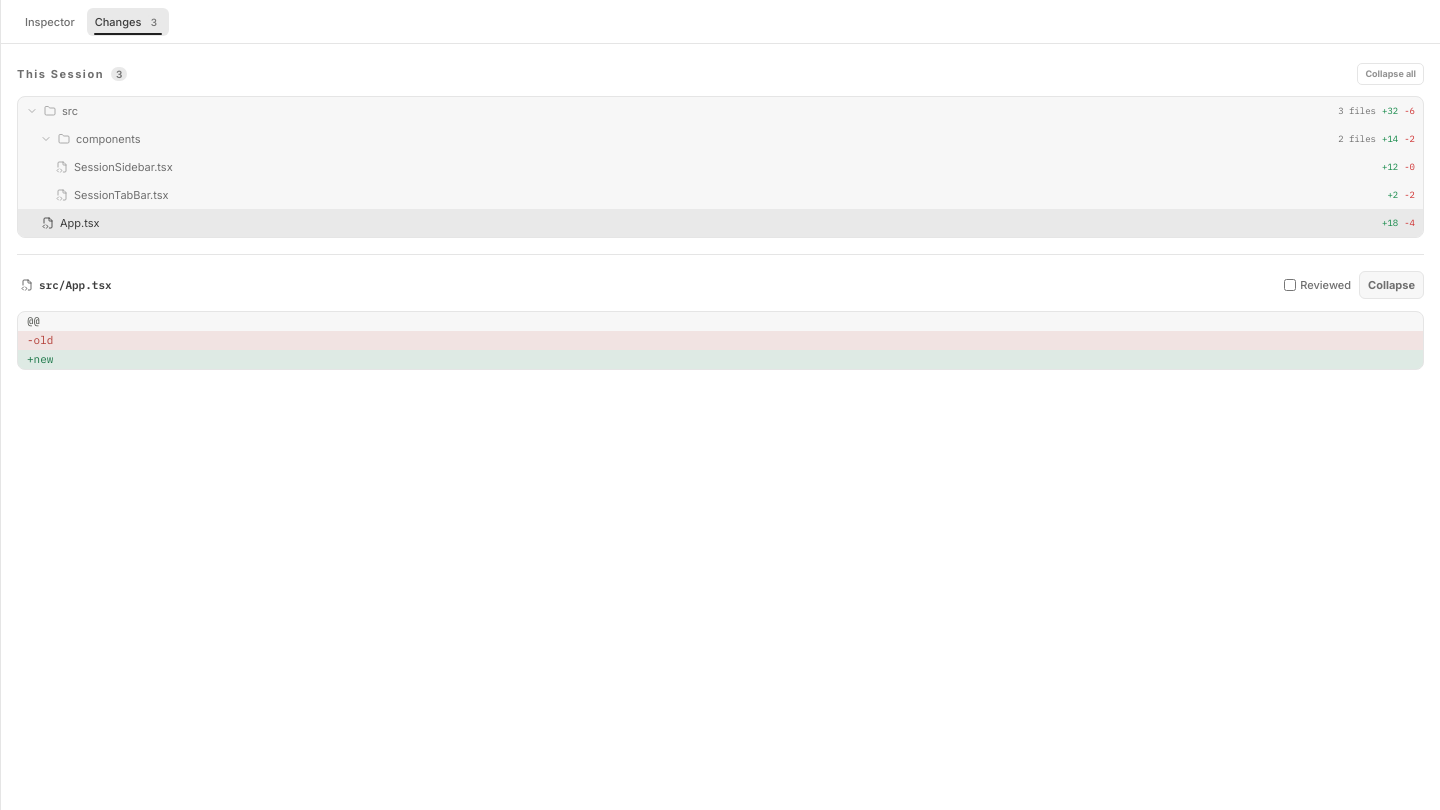
ChangeInspector › marks a file reviewed and lets the reviewer reopen its collapsed diff
Click the checkbox named "Mark src/App.tsx as reviewed": (1290, 285) top-left (1284, 279), bottom-right (1296, 291)
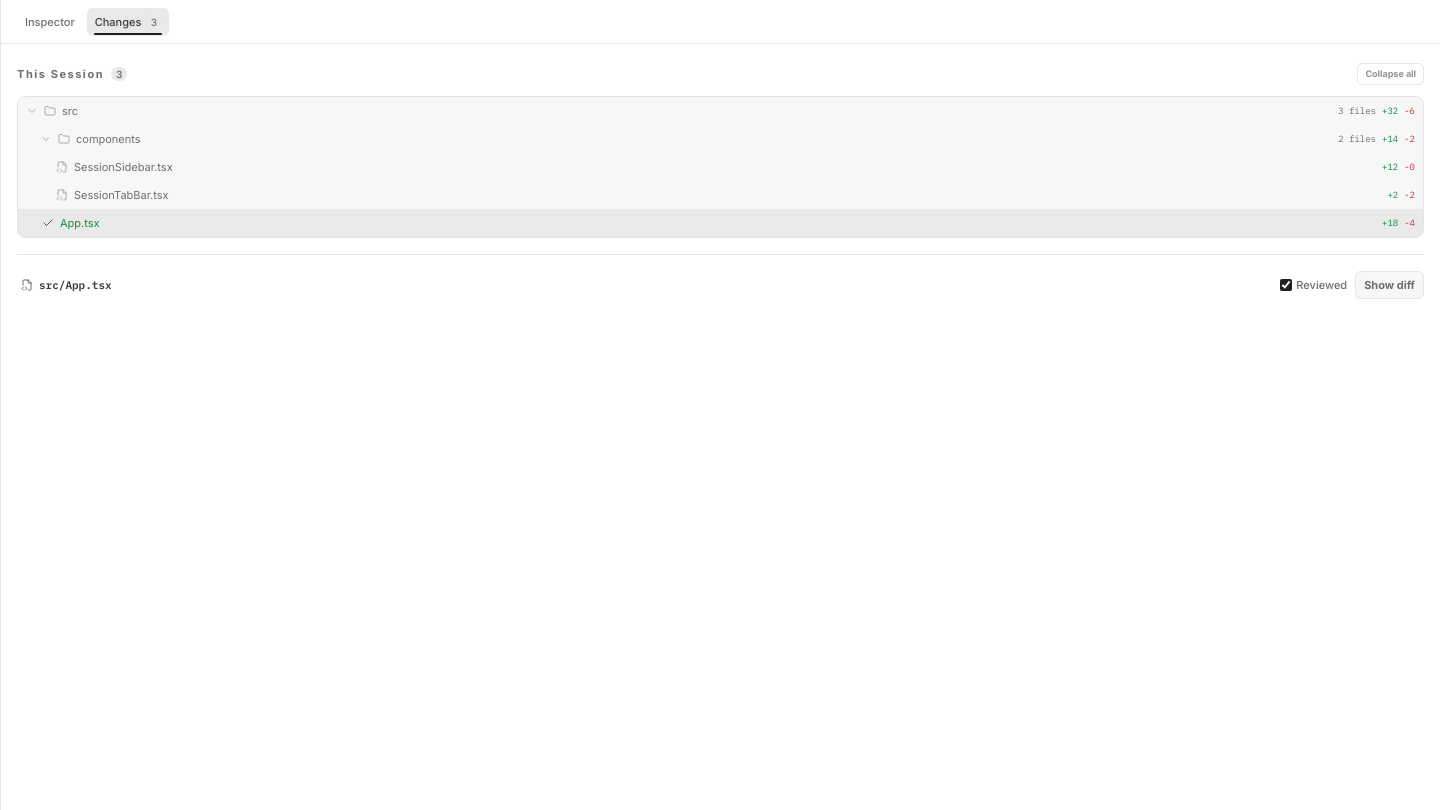
Click the button with aria-label "Show diff for src/App.tsx": (1390, 285) top-left (1355, 271), bottom-right (1424, 299)
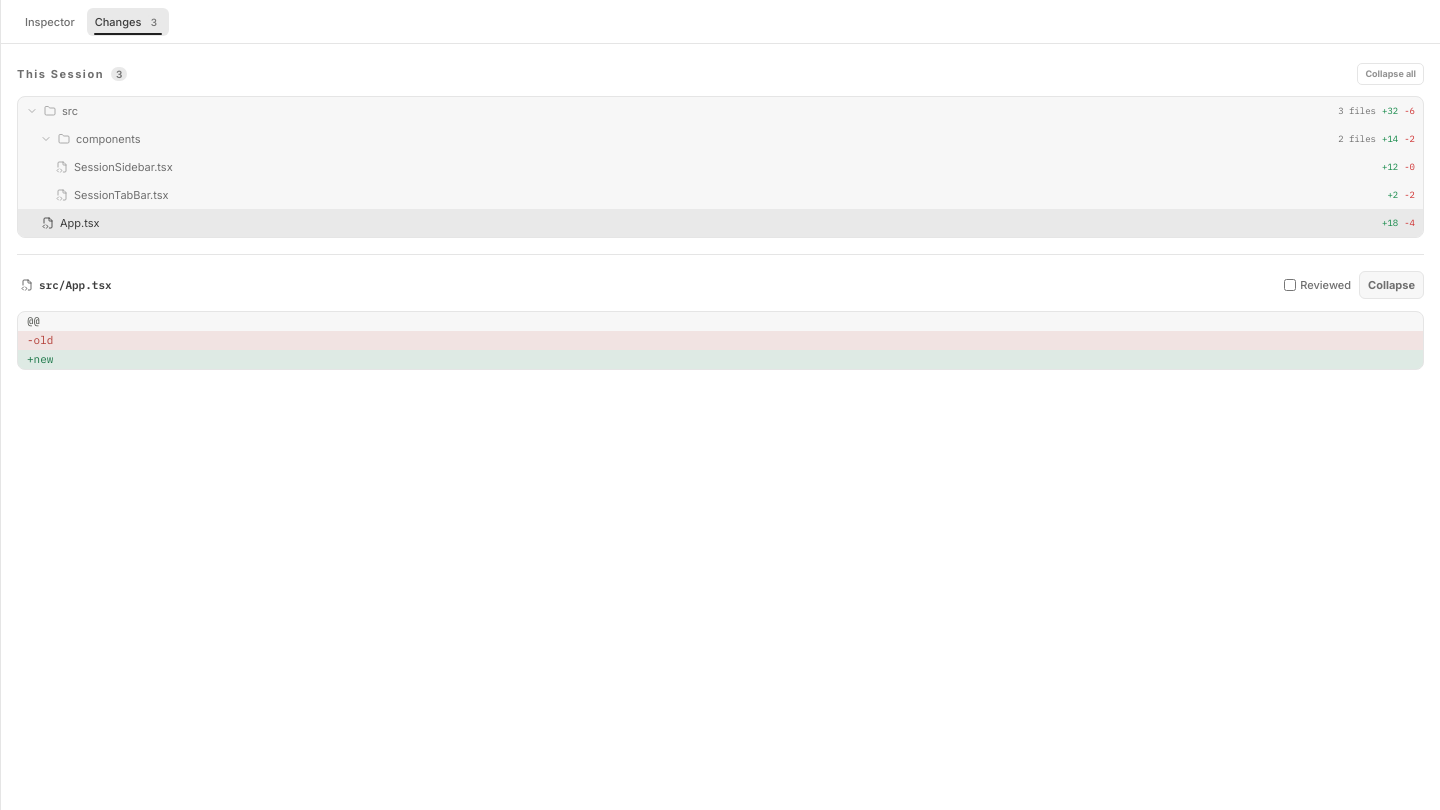
Result: the checkbox named "Mark src/App.tsx as reviewed" is not checked at top-left (1284, 279), bottom-right (1296, 291)
Result: the element named "Diff for src/App.tsx" is shown at top-left (17, 311), bottom-right (1424, 370)
